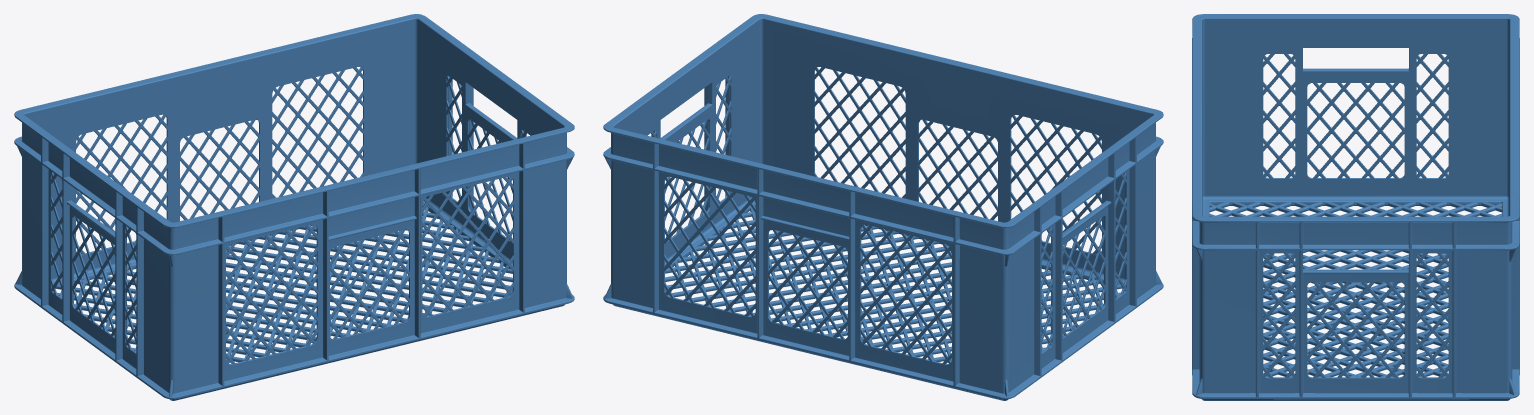
The model's file is crate_blue_a01.glb.
3 views of the same model, side by side, from view 1: azimuth 30°, elevation 25°; view 2: azimuth 150°, elevation 25°; view 3: azimuth 270°, elevation 25° (orthographic). The views are drawn at different scales.
Bounding box in the file's own units: 0.6051 × 0.2532 × 0.4051.
